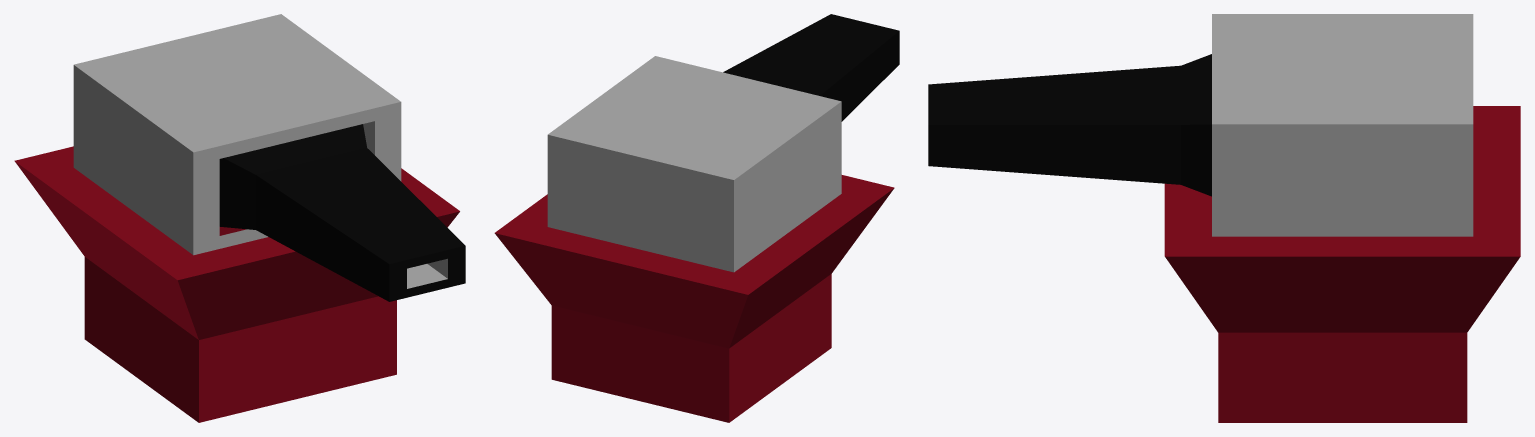
The model's file is Turret_01.fbx.
3 views of the same model, side by side, from view 1: azimuth 30°, elevation 25°; view 2: azimuth 150°, elevation 25°; view 3: azimuth 270°, elevation 25° (orthographic). The views are drawn at different scales.
Visible parts, largest first — view 1: polySurface1, polySurface2; view 2: polySurface1, polySurface2; view 3: polySurface1, polySurface2.
Boxes of the visible parts, x1=… form: polySurface1: x1=73, y1=14, x2=465, y2=301; polySurface2: x1=14, y1=146, x2=459, y2=422; polySurface1: x1=547, y1=14, x2=899, y2=272; polySurface2: x1=494, y1=175, x2=894, y2=422; polySurface1: x1=928, y1=14, x2=1473, y2=236; polySurface2: x1=1164, y1=106, x2=1520, y2=422.
Size of the model in its own units: 2.88 by 2.78 by 4.8.
